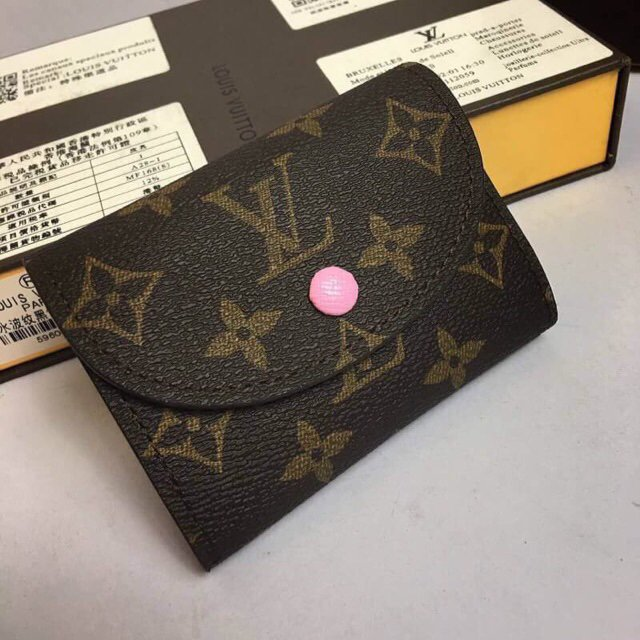LOUIS-VUITTON: (192, 155, 341, 287)
